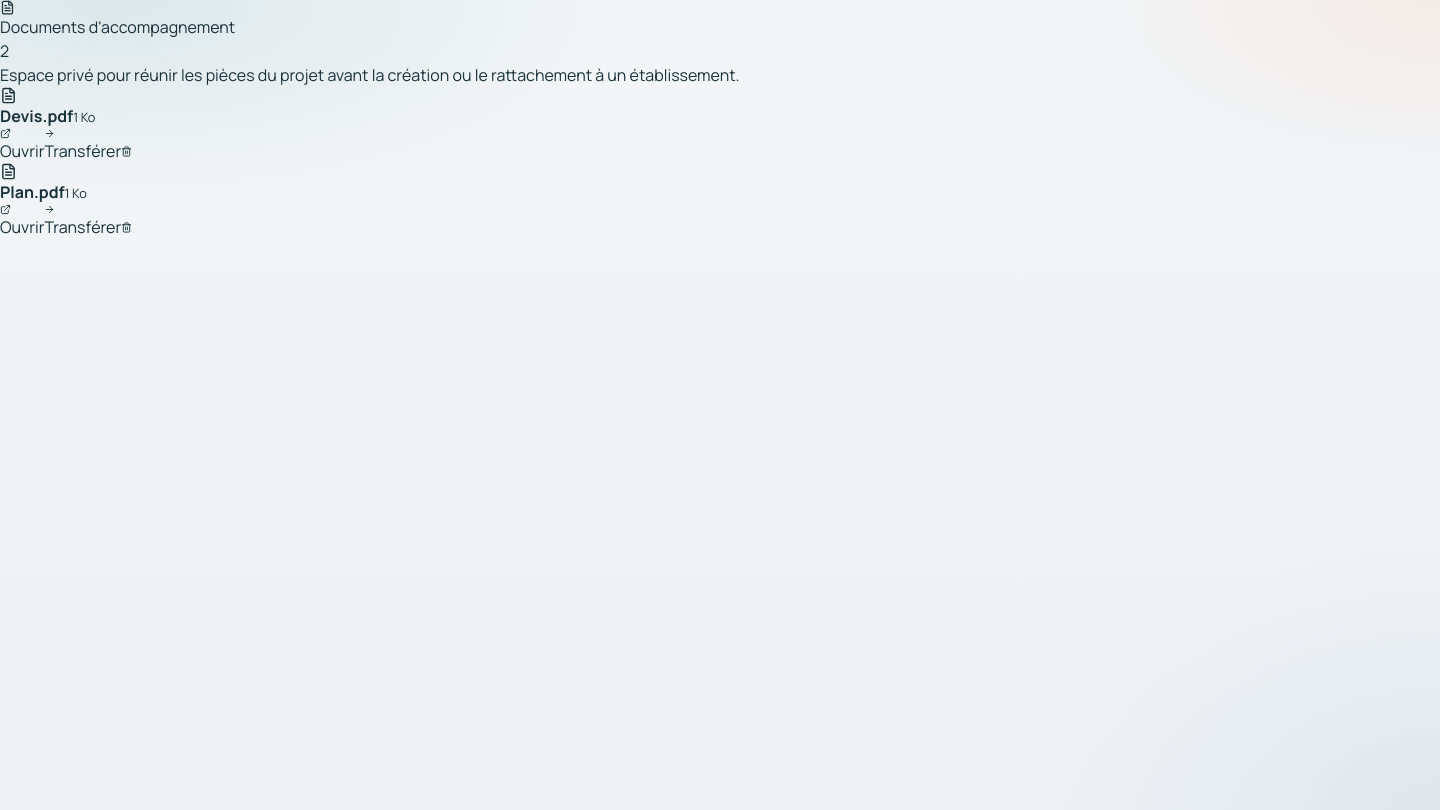
rend la confirmation partagée avec le nom, la conséquence et Annuler initialement ciblé
The image size is (1440, 810).
Click the button named "Supprimer Devis.pdf". click: point(127, 152)
box: left=121, top=146, right=132, bottom=157
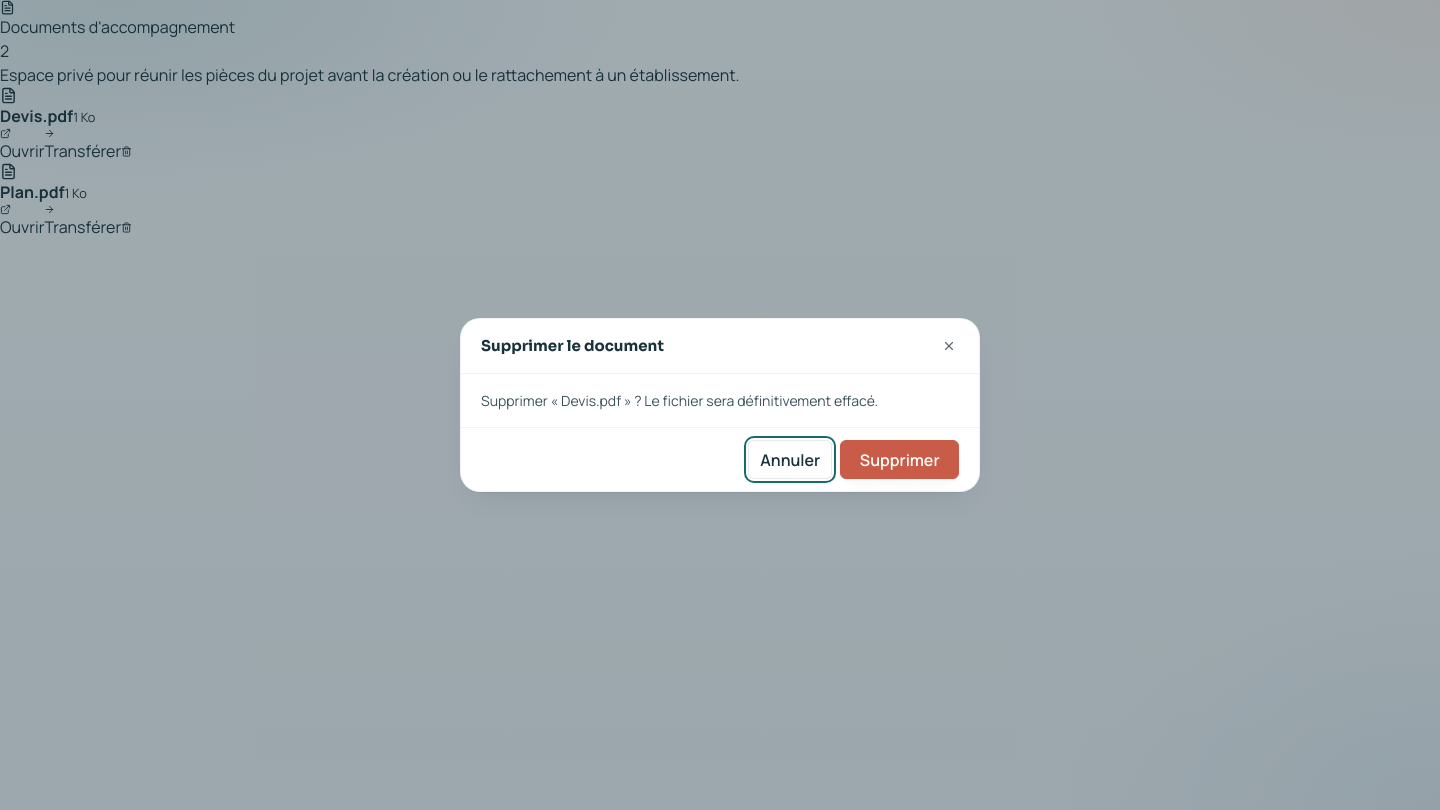
Check: the dialog "Supprimer le document" shows "Supprimer « Devis.pdf » ? Le fichier sera définitivement effacé.", box left=460, top=318, right=980, bottom=492
Click the button "Annuler". click: point(790, 460)
box: left=748, top=440, right=832, bottom=479
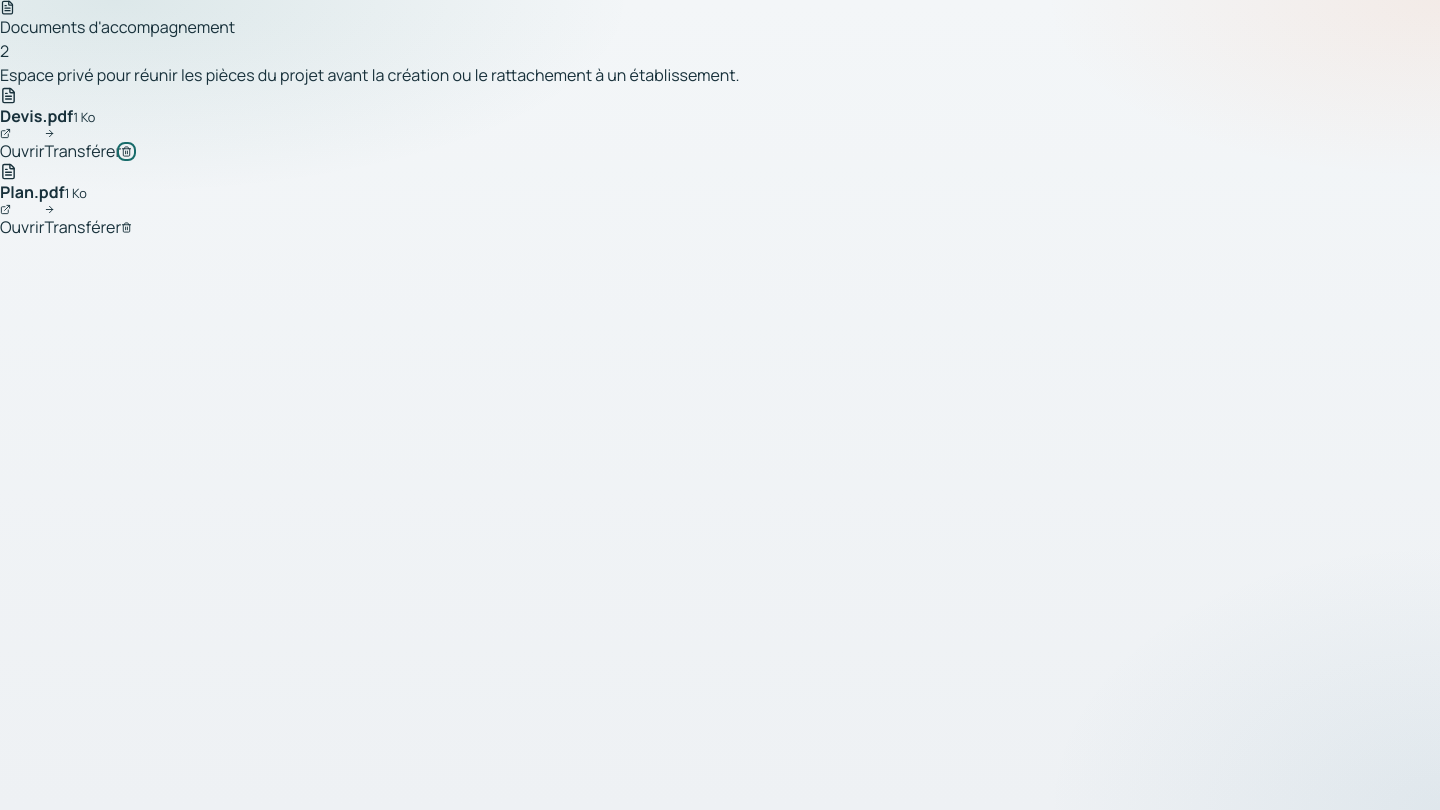
Check: the heading "Supprimer le document" is gone
